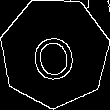O_N: (29, 23, 80, 82)
